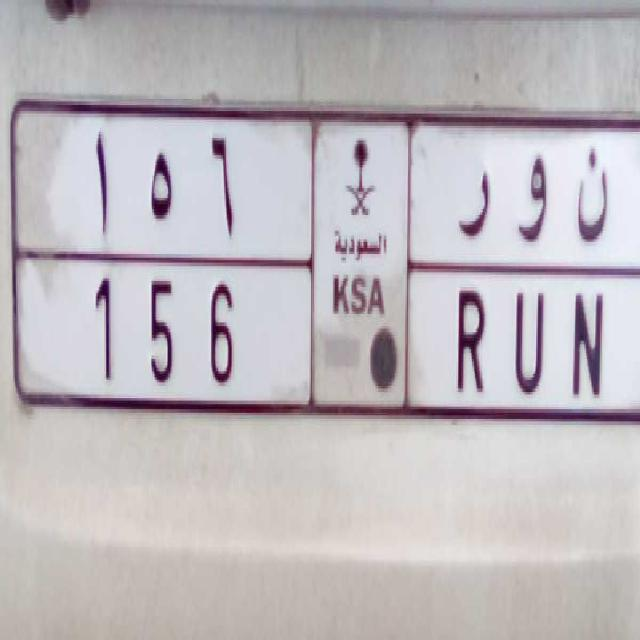license_plate: (44, 246, 624, 429)
